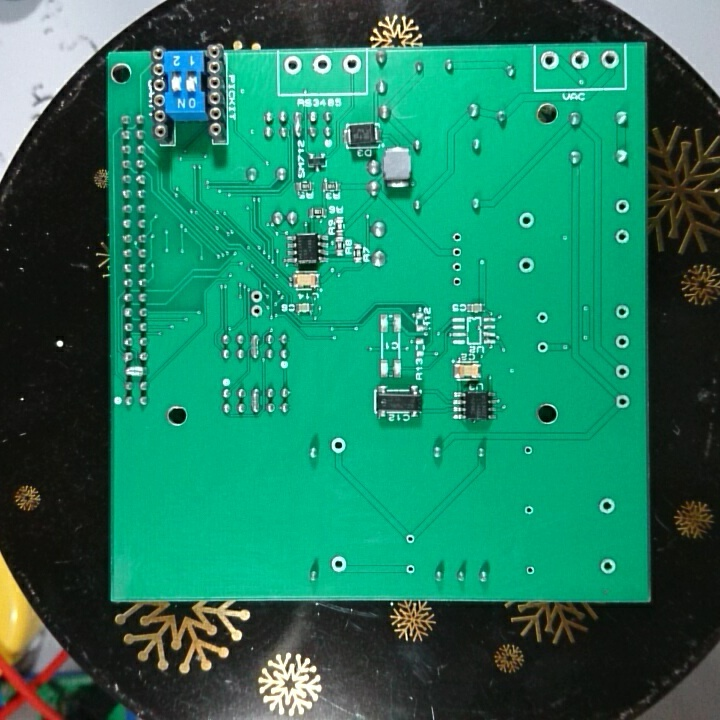F: (568, 49, 593, 73), (281, 54, 304, 80), (538, 48, 562, 72), (311, 52, 333, 78), (597, 553, 619, 578), (516, 209, 538, 232), (596, 496, 619, 518), (612, 331, 633, 354), (341, 55, 363, 76), (329, 434, 350, 456), (611, 303, 634, 323), (599, 48, 615, 75), (614, 390, 632, 414), (613, 226, 633, 247), (328, 554, 349, 574), (613, 360, 631, 383), (613, 196, 632, 216), (535, 309, 554, 327), (248, 303, 268, 320), (517, 256, 533, 277), (521, 502, 539, 520), (248, 287, 266, 304), (403, 530, 420, 547), (520, 443, 536, 460), (536, 337, 550, 356), (452, 272, 467, 289), (523, 563, 540, 578), (450, 244, 465, 260), (403, 560, 416, 577), (450, 230, 464, 245), (451, 257, 464, 272)
P: (247, 383, 264, 417), (248, 331, 264, 366), (122, 363, 152, 379), (292, 110, 305, 139)
